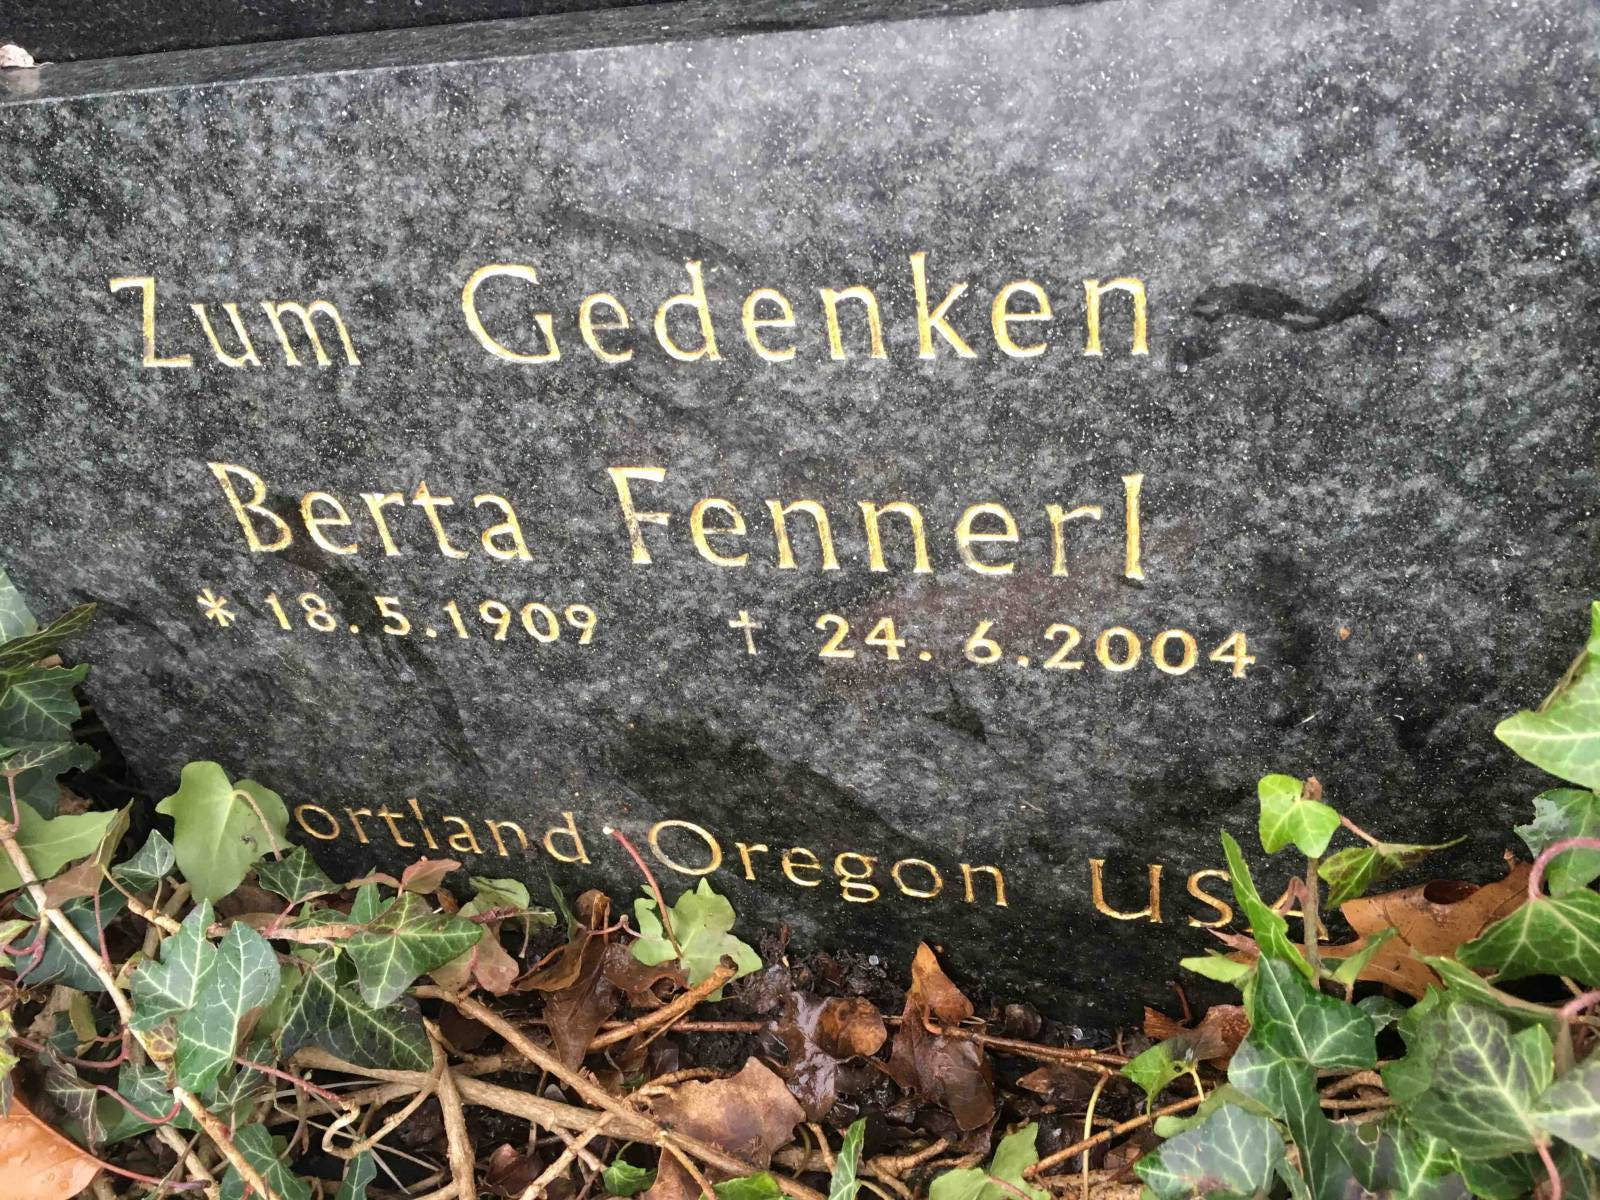upright: (0, 0, 1600, 1063)
